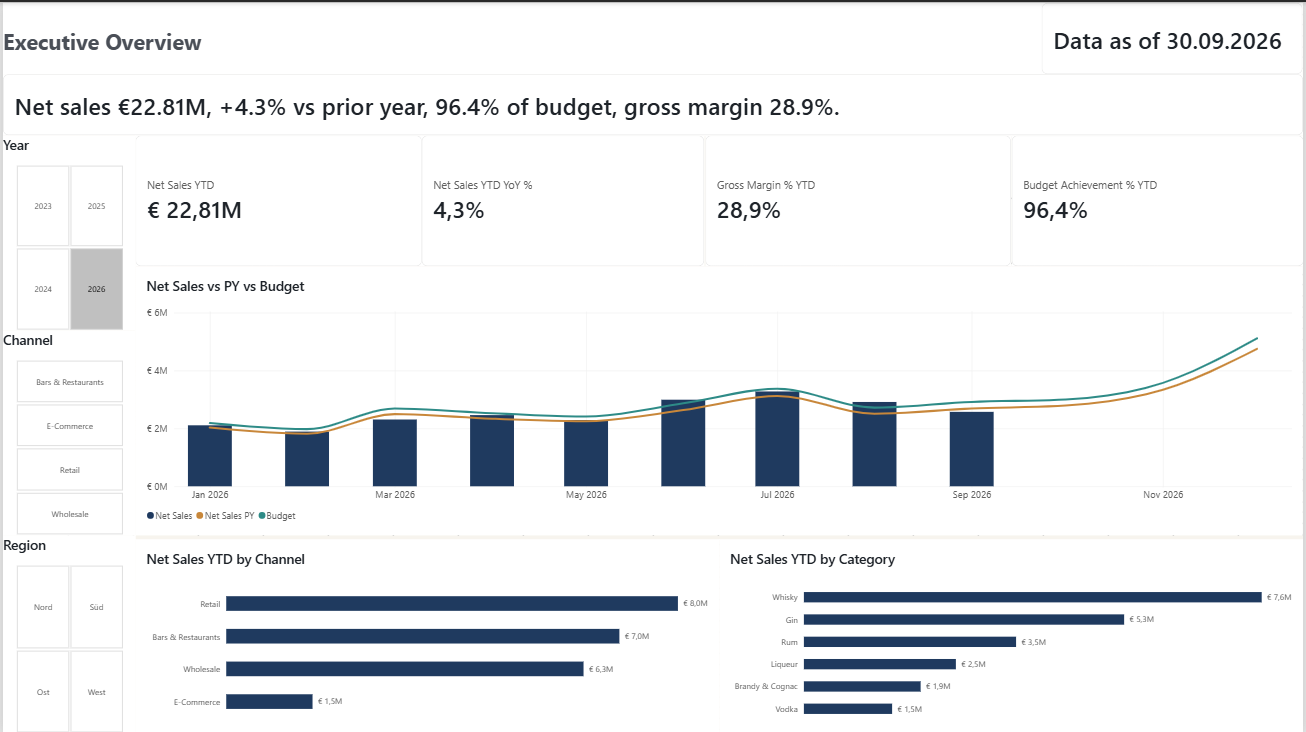

What the dashboard file says about the page in this screenshot:
{"tool":"powerbi","page":{"name":"Executive Overview","canvas":[1920,1080],"ordinal":0},"visuals":[{"type":"cardVisual","fields":{"Data":["_Measures.Net Sales YTD"]},"box":[195.8,195.8,423.5,193.9],"z":0},{"type":"cardVisual","fields":{"Data":["_Measures.Net Sales YTD YoY %"]},"box":[619.3,195.8,417.9,193.9],"z":1000},{"type":"cardVisual","fields":{"Data":["_Measures.Gross Margin % YTD"]},"box":[1037.2,195.8,451.8,193.9],"z":2000},{"type":"cardVisual","fields":{"Data":["_Measures.Budget Achievement % YTD"]},"box":[1488.9,195.8,431.1,193.9],"z":3000},{"type":"lineStackedColumnComboChart","title":"Net Sales vs PY vs Budget","fields":{"Category":["dim_date.month_start_date"],"Y":["_Measures.Net Sales"],"Y2":["_Measures.Net Sales PY","_Measures.Budget"]},"box":[195.8,389.6,1724.2,397.2],"z":4000},{"type":"slicer","title":"Year","fields":{"Values":["dim_date.year"]},"box":[0,195.7,195.7,288],"z":5000},{"type":"slicer","title":"Channel","fields":{"Values":["dim_customer.channel_name"]},"box":[0,483.8,195.8,303.1],"z":6000},{"type":"slicer","title":"Region","fields":{"Values":["dim_customer.customer_region"]},"box":[0,786.8,195.8,293.6],"z":7000},{"type":"barChart","title":"Net Sales YTD by Channel","fields":{"Category":["dim_customer.channel_name"],"Y":["_Measures.Net Sales YTD"]},"box":[195.8,792.5,862.1,288],"z":8000},{"type":"barChart","title":"Net Sales YTD by Category","fields":{"Category":["dim_item_category.item_category_name"],"Y":["_Measures.Net Sales YTD"]},"box":[1057.9,792.5,862.1,288],"z":9000},{"type":"textbox","box":[0,0,1534.2,105.2],"z":10000},{"type":"cardVisual","fields":{"Data":["_Measures.Data As Of"]},"box":[1534.2,0,385.8,105.2],"z":11000},{"type":"cardVisual","fields":{"Data":["_Measures.Headline"]},"box":[0,106,1920,90],"z":12000}]}

Visuals, with their boxes in screenshot pixels (x1, y1, x2, y2), scaled from the page's 1920x1080 canvas onto the 1306x732 screenshot:
cardVisual - _Measures.Net Sales YTD: {"x1": 133, "y1": 133, "x2": 421, "y2": 264}
cardVisual - _Measures.Net Sales YTD YoY %: {"x1": 421, "y1": 133, "x2": 706, "y2": 264}
cardVisual - _Measures.Gross Margin % YTD: {"x1": 706, "y1": 133, "x2": 1013, "y2": 264}
cardVisual - _Measures.Budget Achievement % YTD: {"x1": 1013, "y1": 133, "x2": 1305, "y2": 264}
"Net Sales vs PY vs Budget" lineStackedColumnComboChart: {"x1": 133, "y1": 264, "x2": 1305, "y2": 533}
"Year" slicer: {"x1": 0, "y1": 133, "x2": 133, "y2": 328}
"Channel" slicer: {"x1": 0, "y1": 328, "x2": 133, "y2": 533}
"Region" slicer: {"x1": 0, "y1": 533, "x2": 133, "y2": 731}
"Net Sales YTD by Channel" barChart: {"x1": 133, "y1": 537, "x2": 720, "y2": 731}
"Net Sales YTD by Category" barChart: {"x1": 720, "y1": 537, "x2": 1305, "y2": 731}
textbox: {"x1": 0, "y1": 0, "x2": 1044, "y2": 71}
cardVisual - _Measures.Data As Of: {"x1": 1044, "y1": 0, "x2": 1305, "y2": 71}
cardVisual - _Measures.Headline: {"x1": 0, "y1": 72, "x2": 1305, "y2": 133}
